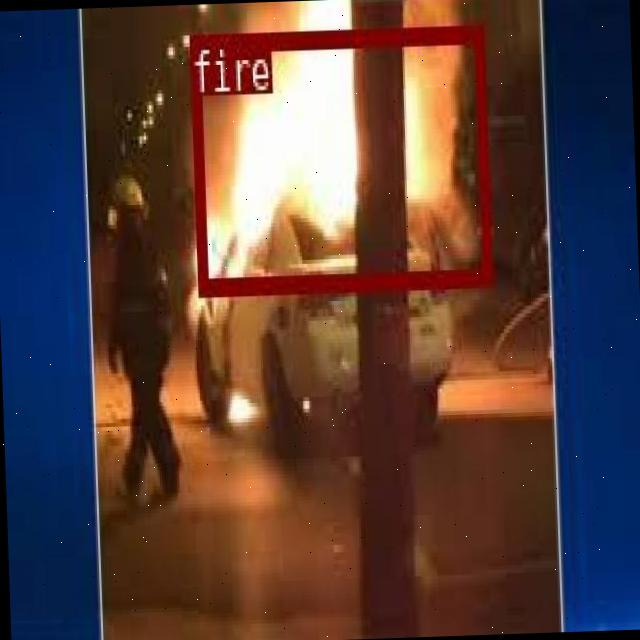fire: (187, 22, 490, 292)
